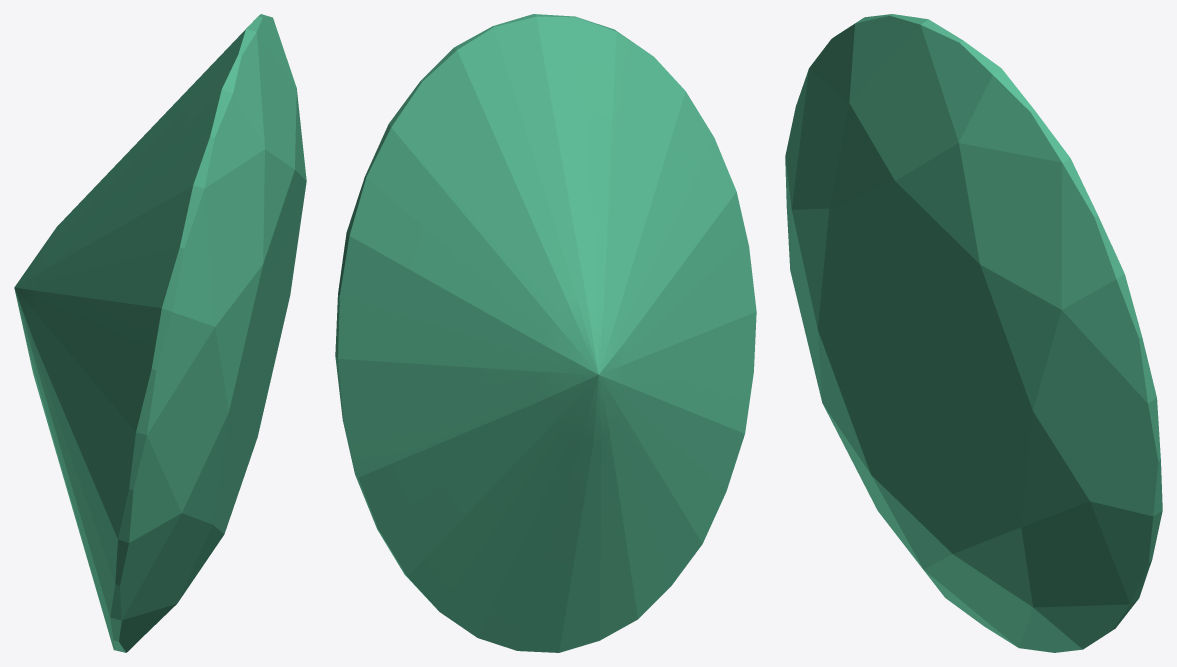
Rendered from TR3_8shapes_Oval_Classic_Stone.001 3.glb.
3 views of the same model, side by side, from view 1: azimuth 30°, elevation 25°; view 2: azimuth 150°, elevation 25°; view 3: azimuth 270°, elevation 25° (orthographic). The views are drawn at different scales.
Visible parts, largest first — view 1: TR3_8shapes_Oval_Classic_Stone.001; view 2: TR3_8shapes_Oval_Classic_Stone.001; view 3: TR3_8shapes_Oval_Classic_Stone.001.
Part boxes in pixels (box(x1,y1,x2,y2)): TR3_8shapes_Oval_Classic_Stone.001: box(14, 14, 306, 652); TR3_8shapes_Oval_Classic_Stone.001: box(335, 14, 756, 652); TR3_8shapes_Oval_Classic_Stone.001: box(785, 14, 1162, 652).
Bounding box in the file's own units: 0.3077 × 0.6409 × 0.3318.
